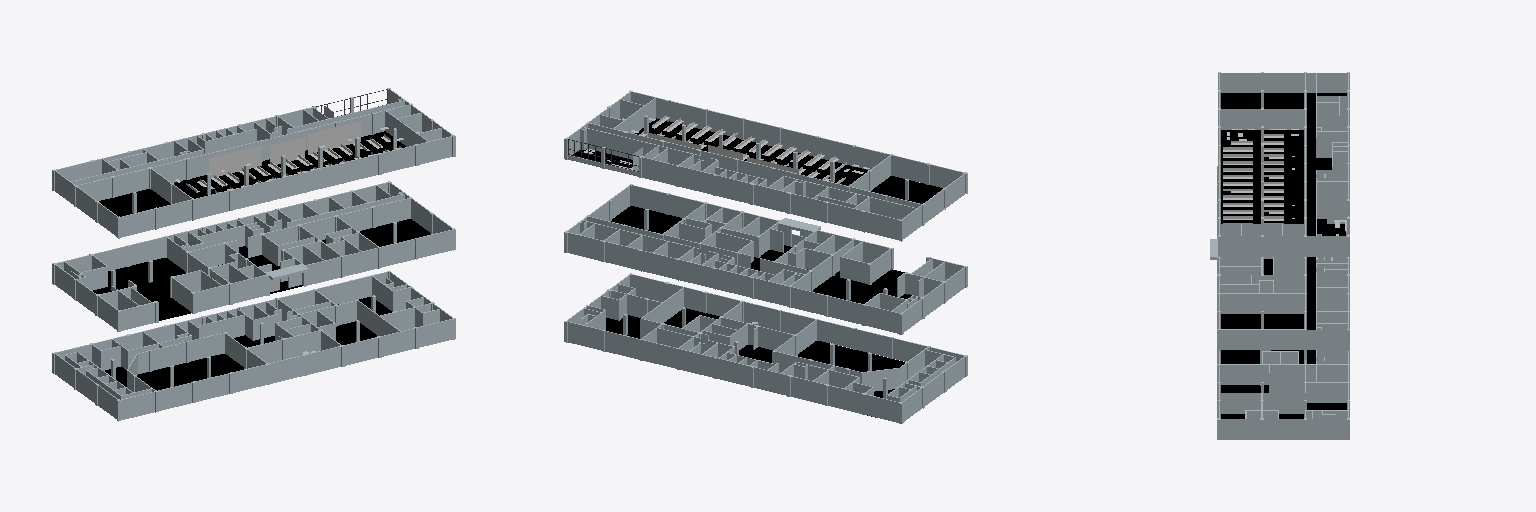
Rendered from building_kosugi_161017.obj.
The picture shows the model from 3 angles: view 1: azimuth 30°, elevation 25°; view 2: azimuth 150°, elevation 25°; view 3: azimuth 270°, elevation 25°; orthographic projection.
Visible parts, largest first — view 1: b1_Mesh.006, 1f_Mesh, main_Mesh.004, 2f_Mesh.005, floor.002_Plane.002, rs_Mesh.001, floor_Plane.003, floor.001_Plane.001, c30_Mesh.002, partition_Plane.065, staff_Plane.059, mt-e1_Mesh.003; view 2: 1f_Mesh, b1_Mesh.006, 2f_Mesh.005, main_Mesh.004, floor_Plane.003, rs_Mesh.001, floor.001_Plane.001, floor.002_Plane.002, mt-e1_Mesh.003, c30_Mesh.002, staff_Plane.059, partition_Plane.065; view 3: b1_Mesh.006, floor_Plane.003, 1f_Mesh, 2f_Mesh.005, main_Mesh.004, c30_Mesh.002, staff_Plane.059, floor.002_Plane.002, mt-e1_Mesh.003, floor.001_Plane.001, rs_Mesh.001.
Part boxes in pixels (left/top/right/bottom): b1_Mesh.006: left=52, top=271, right=455, bottom=421; 1f_Mesh: left=52, top=181, right=455, bottom=331; main_Mesh.004: left=148, top=103, right=455, bottom=220; 2f_Mesh.005: left=52, top=100, right=409, bottom=238; floor.002_Plane.002: left=93, top=219, right=430, bottom=320; rs_Mesh.001: left=244, top=329, right=344, bottom=384; floor_Plane.003: left=99, top=131, right=405, bottom=216; floor.001_Plane.001: left=105, top=297, right=391, bottom=390; c30_Mesh.002: left=298, top=215, right=381, bottom=277; partition_Plane.065: left=209, top=121, right=360, bottom=177; staff_Plane.059: left=186, top=134, right=401, bottom=192; mt-e1_Mesh.003: left=303, top=88, right=404, bottom=125; 1f_Mesh: left=564, top=184, right=967, bottom=334; b1_Mesh.006: left=564, top=273, right=967, bottom=423; 2f_Mesh.005: left=582, top=123, right=967, bottom=241; main_Mesh.004: left=587, top=90, right=892, bottom=191; floor_Plane.003: left=573, top=118, right=942, bottom=203; rs_Mesh.001: left=719, top=300, right=818, bottom=355; floor.001_Plane.001: left=606, top=308, right=904, bottom=417; floor.002_Plane.002: left=611, top=206, right=911, bottom=303; mt-e1_Mesh.003: left=564, top=127, right=667, bottom=179; c30_Mesh.002: left=660, top=202, right=743, bottom=248; staff_Plane.059: left=639, top=115, right=846, bottom=183; partition_Plane.065: left=648, top=133, right=798, bottom=173; b1_Mesh.006: left=1217, top=350, right=1349, bottom=439; floor_Plane.003: left=1221, top=93, right=1346, bottom=235; 1f_Mesh: left=1210, top=166, right=1349, bottom=350; 2f_Mesh.005: left=1218, top=72, right=1349, bottom=256; main_Mesh.004: left=1218, top=108, right=1306, bottom=256; c30_Mesh.002: left=1217, top=274, right=1306, bottom=313; staff_Plane.059: left=1223, top=134, right=1283, bottom=223; floor.002_Plane.002: left=1221, top=257, right=1315, bottom=329; mt-e1_Mesh.003: left=1316, top=194, right=1349, bottom=256; floor.001_Plane.001: left=1221, top=350, right=1346, bottom=418; rs_Mesh.001: left=1217, top=350, right=1263, bottom=385.
Bounding box in the file's own units: 9.27 × 5.33 × 3.33.